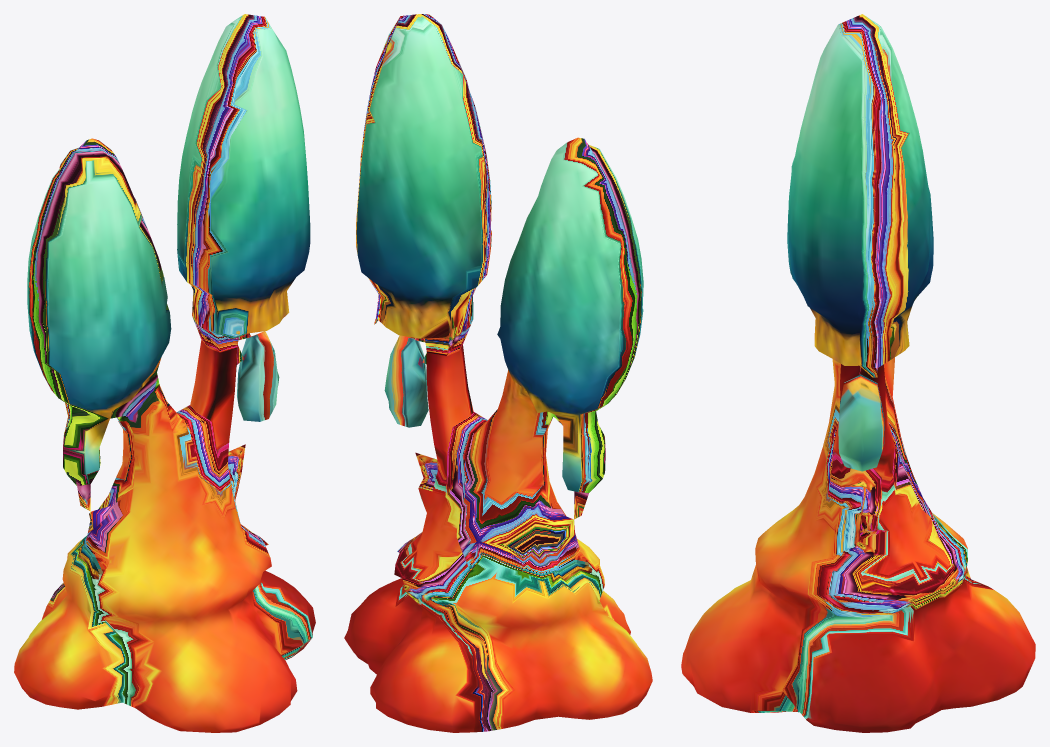
3 views of the same model, side by side, from view 1: azimuth 30°, elevation 25°; view 2: azimuth 150°, elevation 25°; view 3: azimuth 270°, elevation 25° (orthographic). The views are drawn at different scales.
Visible parts, largest first — view 1: model.001; view 2: model.001; view 3: model.001.
Boxes of the visible parts, x1,y1,x2,y2 form: model.001: (14, 14, 315, 732); model.001: (344, 14, 652, 732); model.001: (681, 14, 1035, 732).
Size of the model in its own units: 0.4574 by 0.9941 by 0.4473.
1 material, 1 textured.
